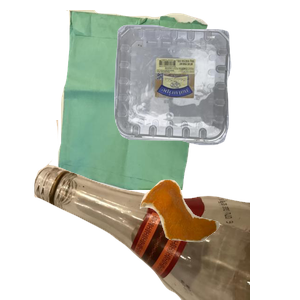glass: (31, 120, 271, 300)
paper: (55, 10, 255, 190)
plastic: (112, 22, 300, 160)
trash: (137, 177, 300, 300)
